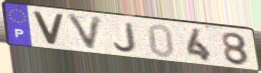0: (145, 23, 177, 60)
4: (185, 27, 213, 63)
8: (220, 31, 250, 67)
J: (112, 21, 138, 54)
V: (64, 13, 105, 54), (30, 10, 67, 48)
